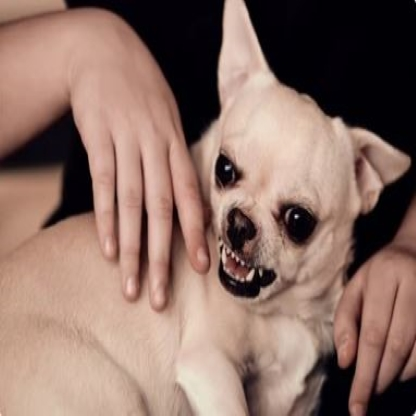chihuahua: (190, 1, 408, 307)
